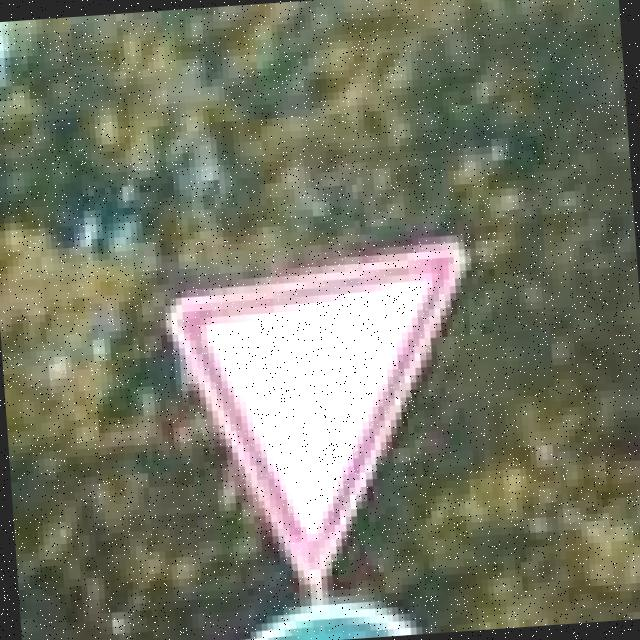Ustap pierwszenstwa: (161, 242, 487, 600)
